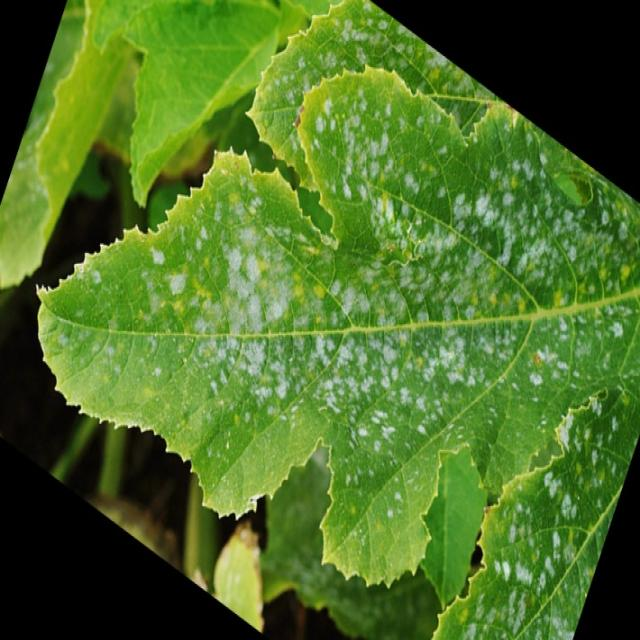Powdery Mildew: (13, 1, 638, 636)
